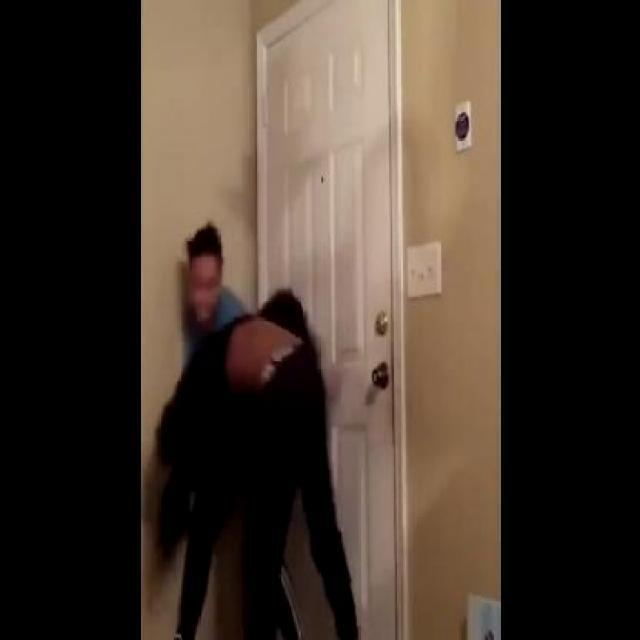fight: (152, 218, 360, 638)
